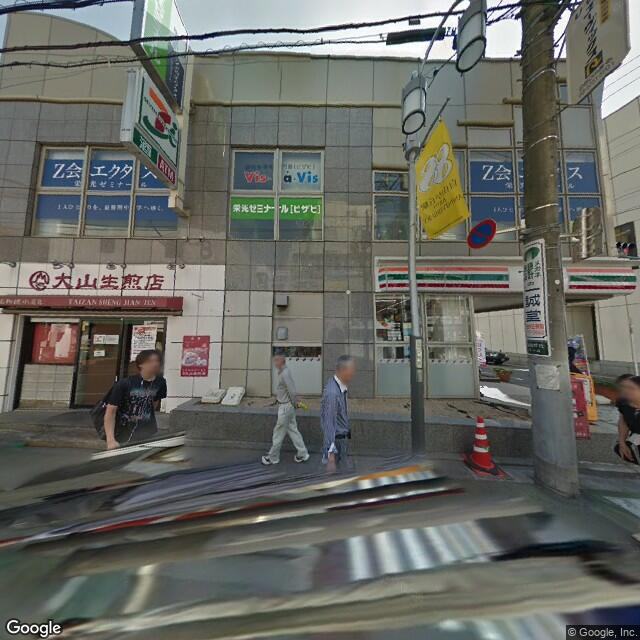7-eleven: (375, 260, 637, 292), (135, 76, 181, 154)
